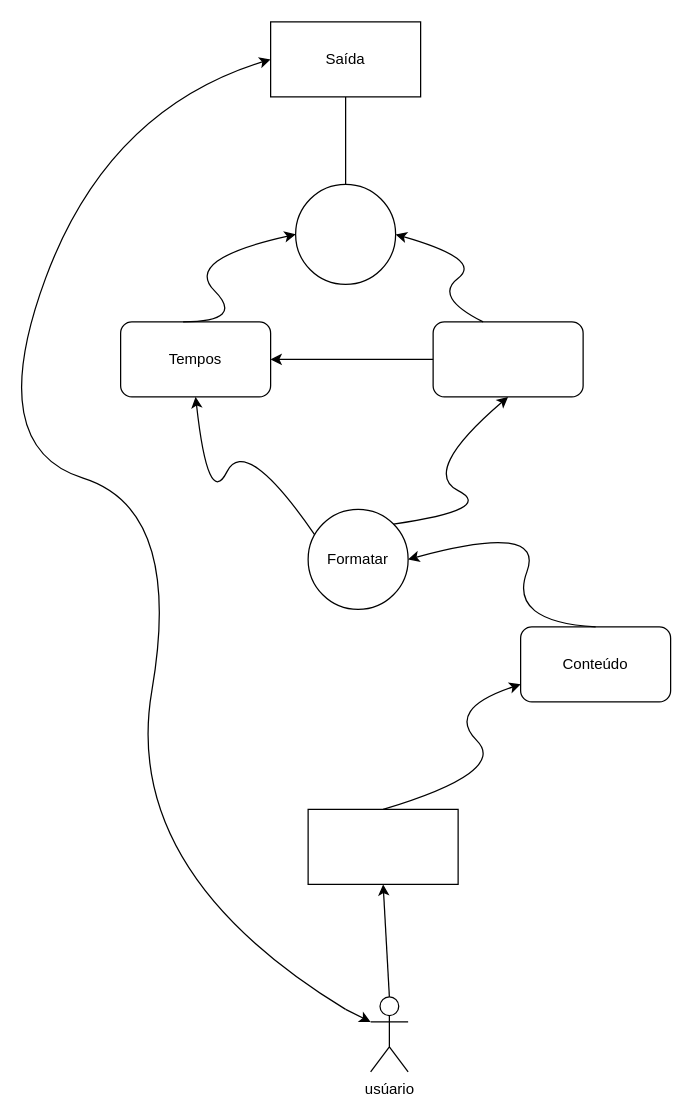
This 694x1120 diagram has some shape labels left out. Each missing label, with the centre of its shape:
Arquivo para Entrada: the point at 382,846
Linhas: the point at 507,359
Sincroniza: the point at 345,233
